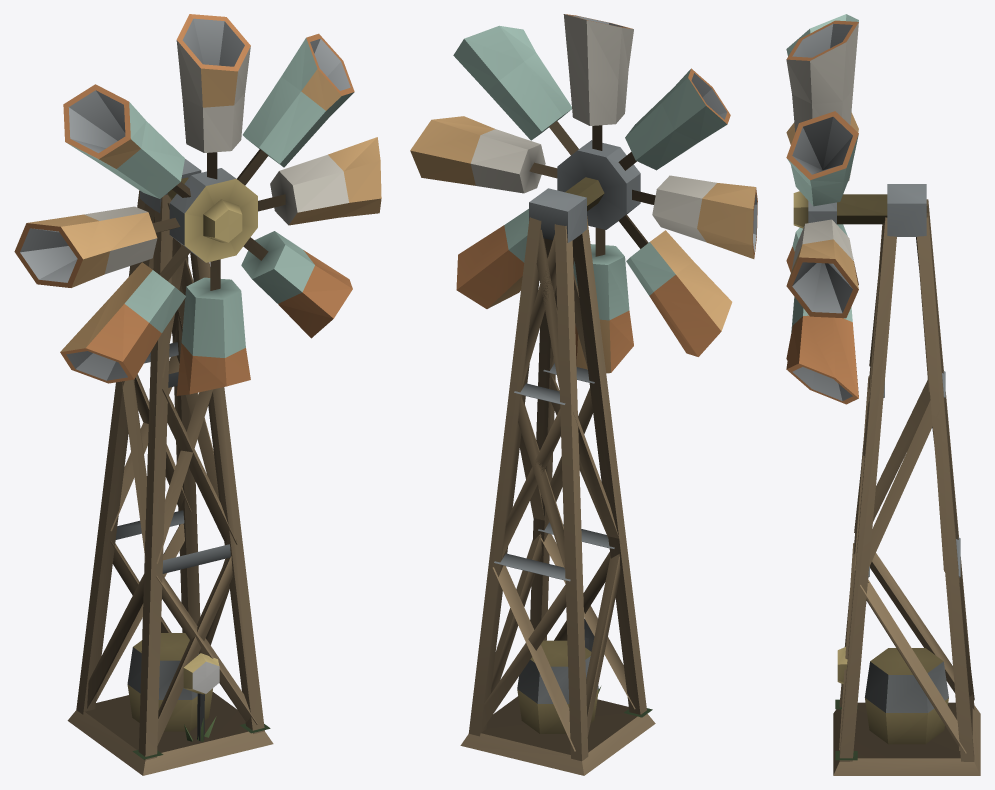
The model's file is spinner.glb.
3 renders of one model, left to right at view 1: azimuth 30°, elevation 25°; view 2: azimuth 150°, elevation 25°; view 3: azimuth 270°, elevation 25°, orthographic. The views are drawn at different scales.
Visible parts, largest first — view 1: spinner; view 2: spinner; view 3: spinner.
Boxes of the visible parts, box(x1,y1,x2,y2) form: spinner: box(14, 14, 381, 775); spinner: box(410, 14, 757, 775); spinner: box(786, 14, 980, 775).
Size of the model in its own units: 3.1 by 6.04 by 1.48.
